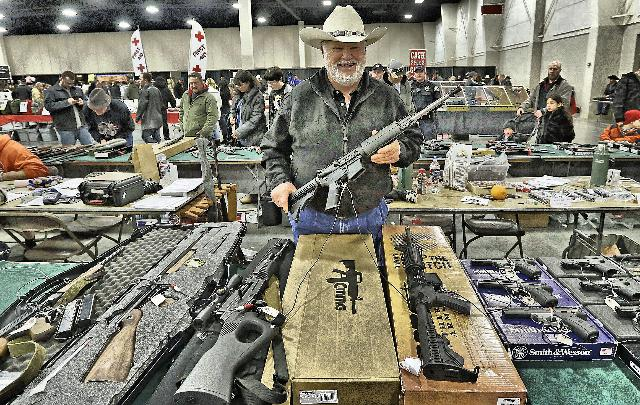pistol: (498, 308, 600, 346), (475, 280, 559, 310), (467, 253, 545, 279), (578, 278, 638, 302), (560, 256, 618, 278)
